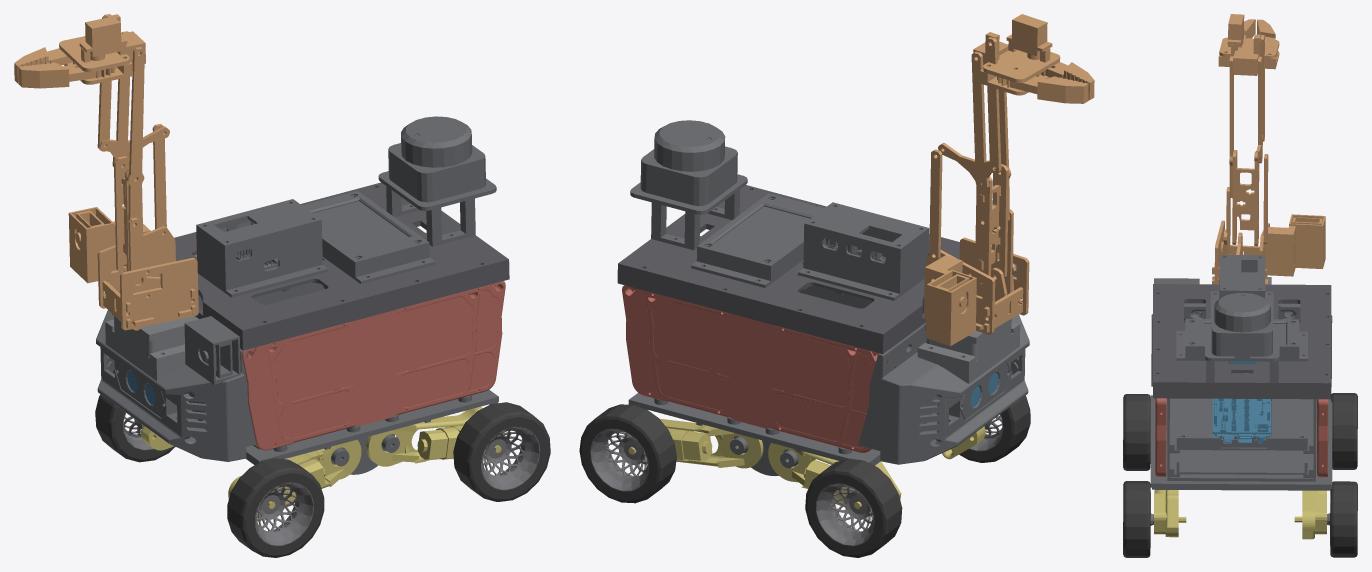
The model's file is rover.glb.
3 renders of one model, left to right at view 1: azimuth 30°, elevation 25°; view 2: azimuth 150°, elevation 25°; view 3: azimuth 270°, elevation 25°, orthographic. The views are drawn at different scales.
Visible parts, largest first — view 1: geometry_0; view 2: geometry_0; view 3: geometry_0.
Part boxes in pixels (x1,y1,x2,y2): geometry_0: (14,14,550,557); geometry_0: (579,14,1094,557); geometry_0: (1123,14,1357,557).
Bounding box in the file's own units: 0.376 × 0.4067 × 0.2135.
